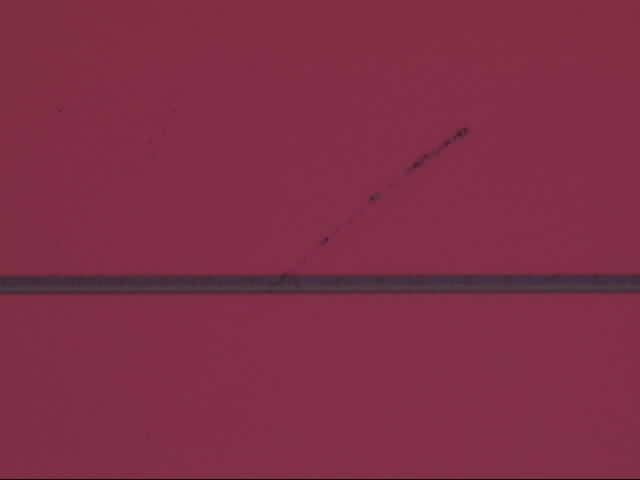SCRATCH: (238, 114, 477, 327)
